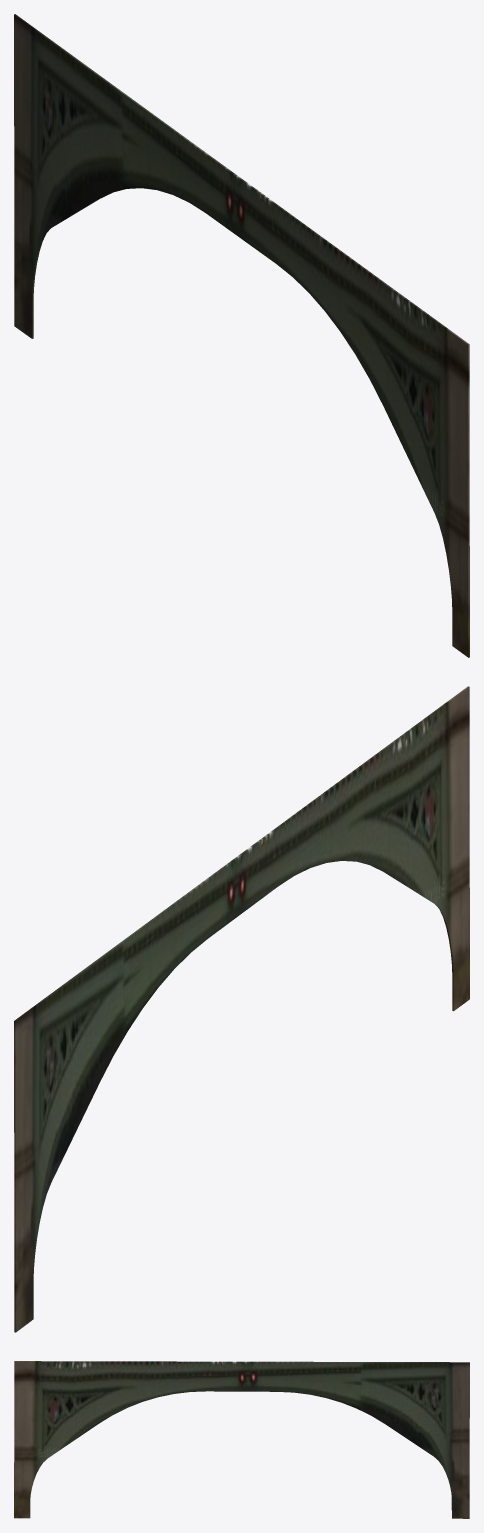
File: BR sextion.FBX
The picture shows the model from 3 angles, top to bottom: view 1: azimuth 30°, elevation 25°; view 2: azimuth 150°, elevation 25°; view 3: azimuth 270°, elevation 25°; orthographic projection. The views are drawn at different scales.
Parts seen in each view (by area): view 1: Line001; view 2: Line001; view 3: Line001.
Boxes of the visible parts, x1,y1,x2,y2 form: Line001: (14,14,469,657); Line001: (14,686,469,1332); Line001: (14,1361,469,1518).
Bounding box in the file's own units: 2 × 408 × 1071.
